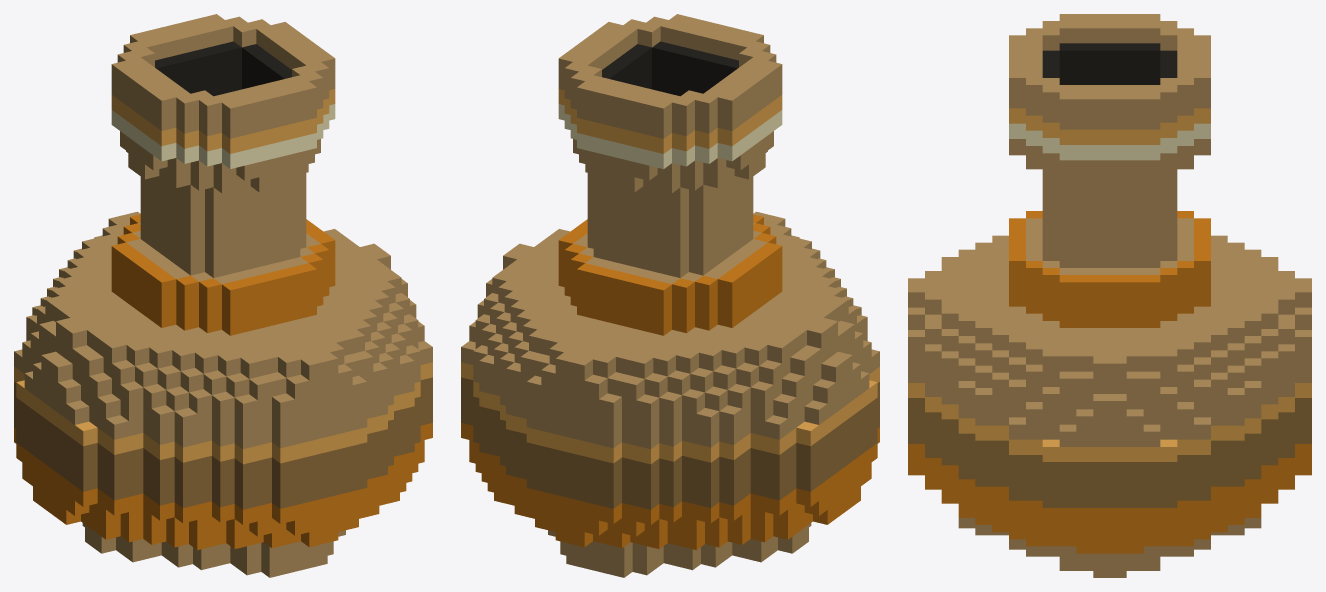
File: Medieval Assets-57-Decoration - Desert - Urn - Variant4.obj
3 renders of one model, left to right at view 1: azimuth 30°, elevation 25°; view 2: azimuth 150°, elevation 25°; view 3: azimuth 270°, elevation 25°, orthographic.
Visible parts, largest first — view 1: Decoration - Desert - Urn - Variant4; view 2: Decoration - Desert - Urn - Variant4; view 3: Decoration - Desert - Urn - Variant4.
Part boxes in pixels (x1,y1,x2,y2): Decoration - Desert - Urn - Variant4: [14, 14, 432, 577]; Decoration - Desert - Urn - Variant4: [461, 14, 879, 577]; Decoration - Desert - Urn - Variant4: [908, 14, 1311, 577].
Size of the model in its own units: 2.4 by 3 by 2.4.
Materials: 1 (1 with a texture image).
